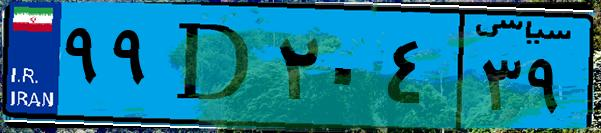0: (330, 28, 385, 110)
2: (270, 28, 330, 110)
3: (475, 38, 525, 113)
4: (385, 28, 445, 110)
9: (57, 26, 110, 100), (525, 38, 570, 115), (110, 28, 158, 98)
D: (158, 12, 270, 120)
